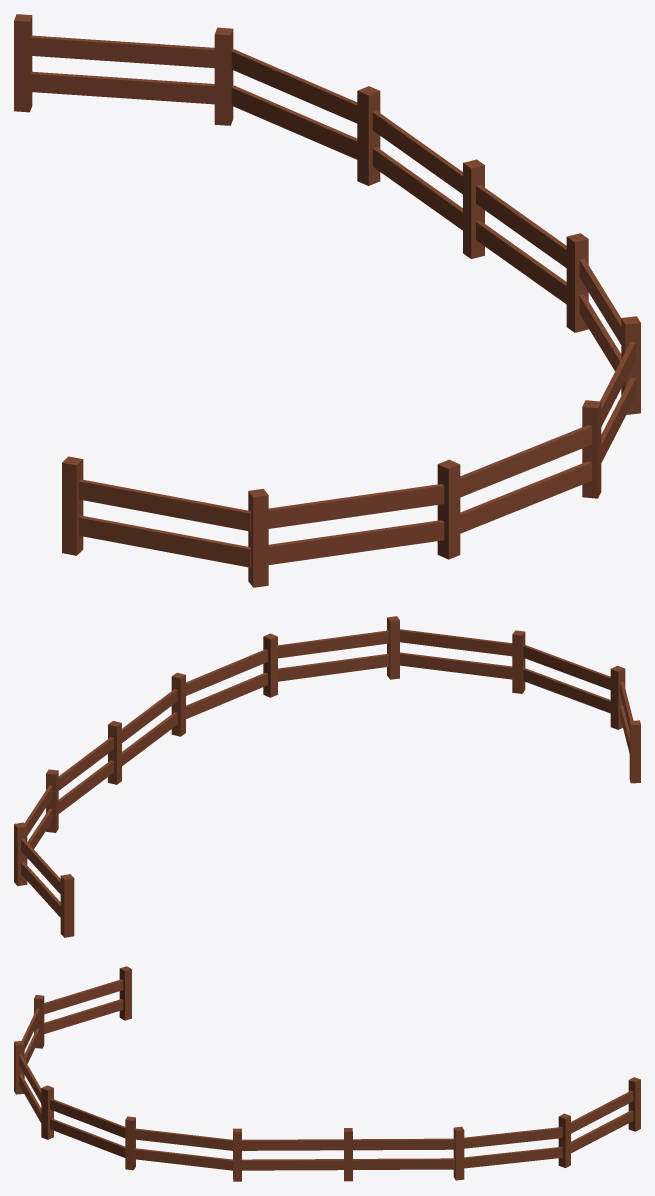
The model's file is Zaun_Wohnhaus.fbx.
3 renders of one model, top to bottom at view 1: azimuth 30°, elevation 25°; view 2: azimuth 150°, elevation 25°; view 3: azimuth 270°, elevation 25°, orthographic. The views are drawn at different scales.
Parts seen in each view (by area): view 1: Zaun Ende.003; view 2: Zaun Ende.003; view 3: Zaun Ende.003.
Part boxes in pixels (left/top/right/bottom): Zaun Ende.003: left=14, top=14, right=640, bottom=587; Zaun Ende.003: left=14, top=616, right=640, bottom=937; Zaun Ende.003: left=14, top=966, right=640, bottom=1181.
Size of the model in its own units: 675 by 93.46 by 1075.
